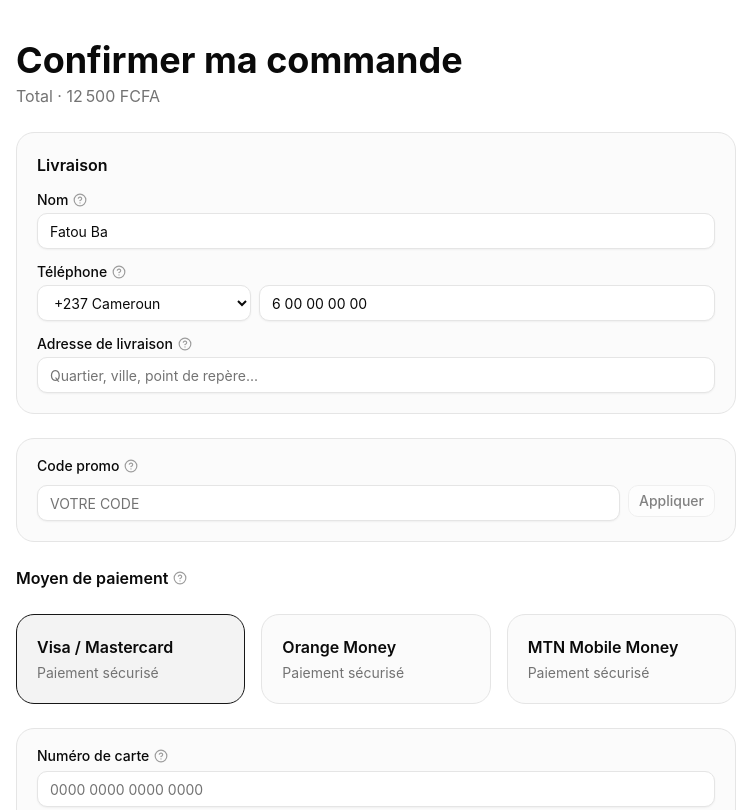
Test: PaymentMethodPageContent › surfaces the real error message when the server rejects for insufficient stock
This screenshot has width=753, height=810.
Type "Akwa, Douala" into the field labelled "Adresse de livraison".
click(376, 375); type("Akwa, Douala")  # box [37,357,715,393]
(page scrolled)
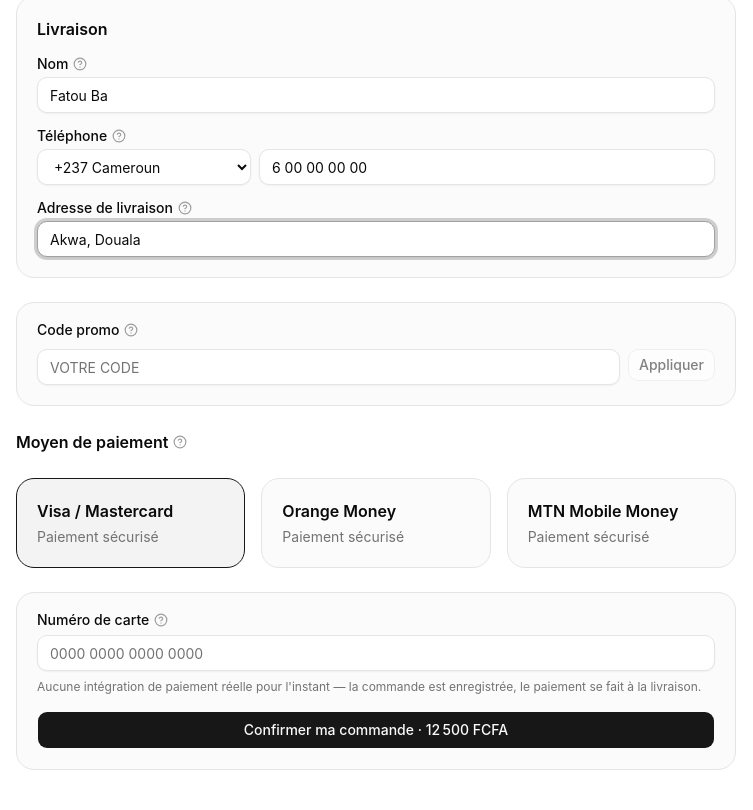
Click the button "Confirmer ma commande · 12 500 FCFA".
click(376, 730)  # box [37,711,715,749]
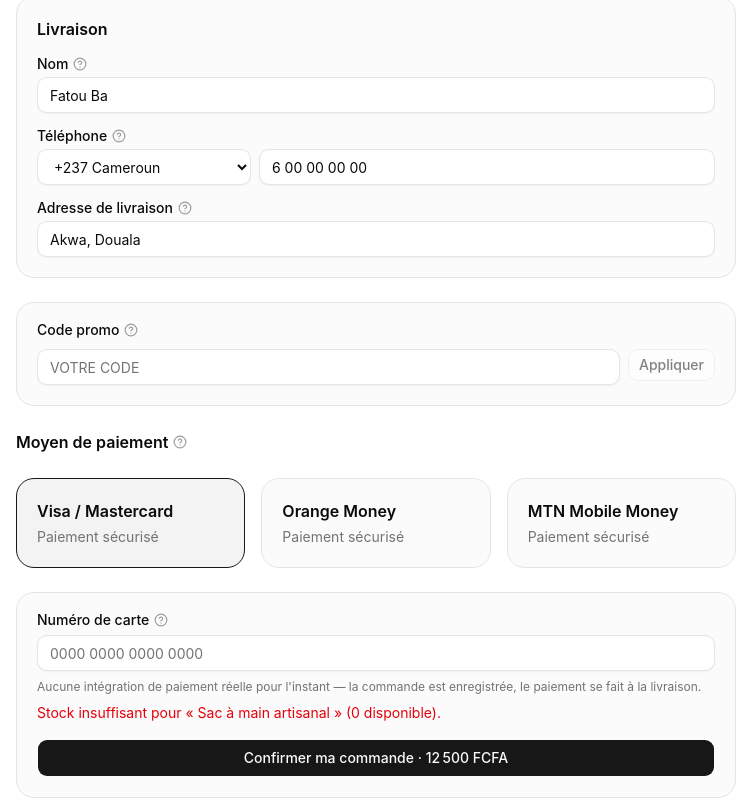
expect the text "Stock insuffisant pour « Sac à main artisanal » (0 disponible)." is shown: met, box [37,704,441,721]
